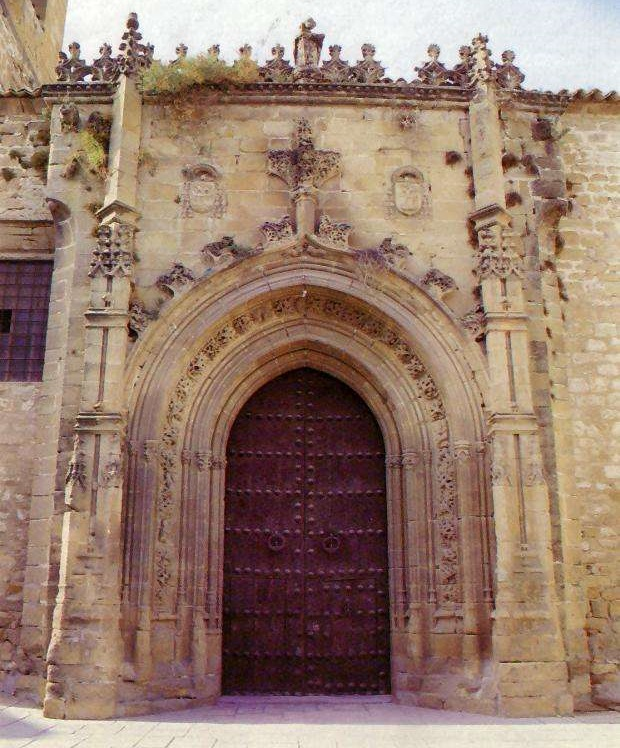arco-apuntado: (211, 331, 415, 477)
